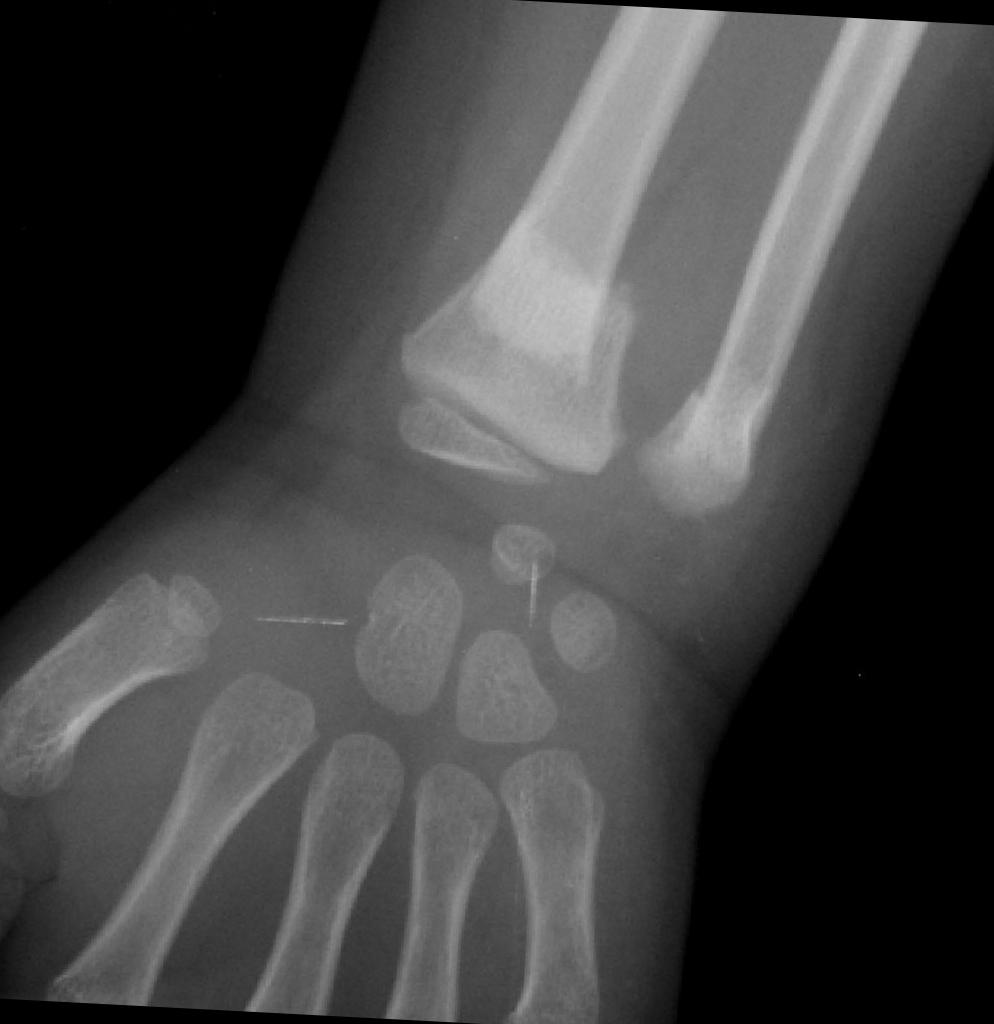fracture: (453, 204, 634, 386), (686, 375, 774, 472)
